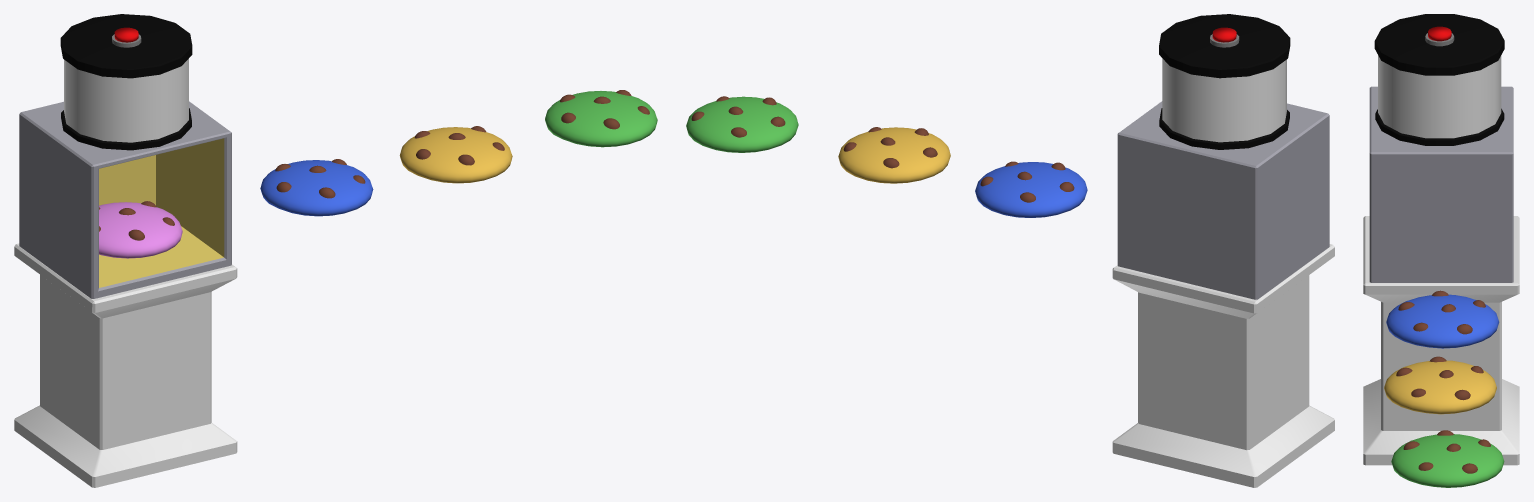
Rendered from cookie dispenser 2.fbx.
The picture shows the model from 3 angles, left to right: view 1: azimuth 30°, elevation 25°; view 2: azimuth 150°, elevation 25°; view 3: azimuth 270°, elevation 25°; orthographic projection. The views are drawn at different scales.
Visible parts, largest first — view 1: Dispenser, Cube, Cookie_Yellow, Cookie_Blue, Cookie_Green, Cookie_Pink; view 2: Dispenser, Cube, Cookie_Yellow, Cookie_Blue, Cookie_Green; view 3: Dispenser, Cube, Cookie_Yellow, Cookie_Green, Cookie_Blue, Button interacable, Button rim.
Boxes of the visible parts, bbox=[...] form: Dispenser: bbox=[19, 14, 231, 298]; Cube: bbox=[14, 243, 237, 487]; Cookie_Yellow: bbox=[399, 126, 512, 183]; Cookie_Blue: bbox=[260, 159, 373, 216]; Cookie_Green: bbox=[545, 90, 657, 147]; Cookie_Pink: bbox=[99, 201, 182, 258]; Dispenser: bbox=[1117, 14, 1329, 299]; Cube: bbox=[1112, 244, 1334, 487]; Cookie_Yellow: bbox=[838, 127, 950, 183]; Cookie_Blue: bbox=[975, 161, 1087, 217]; Cookie_Green: bbox=[686, 96, 798, 152]; Dispenser: bbox=[1369, 14, 1513, 282]; Cube: bbox=[1363, 216, 1519, 465]; Cookie_Yellow: bbox=[1384, 356, 1496, 414]; Cookie_Green: bbox=[1391, 430, 1504, 487]; Cookie_Blue: bbox=[1386, 290, 1499, 348]; Button interacable: bbox=[1428, 26, 1451, 41]; Button rim: bbox=[1425, 33, 1454, 46].
Bounding box in the file's own units: 239 × 156 × 55.35.
